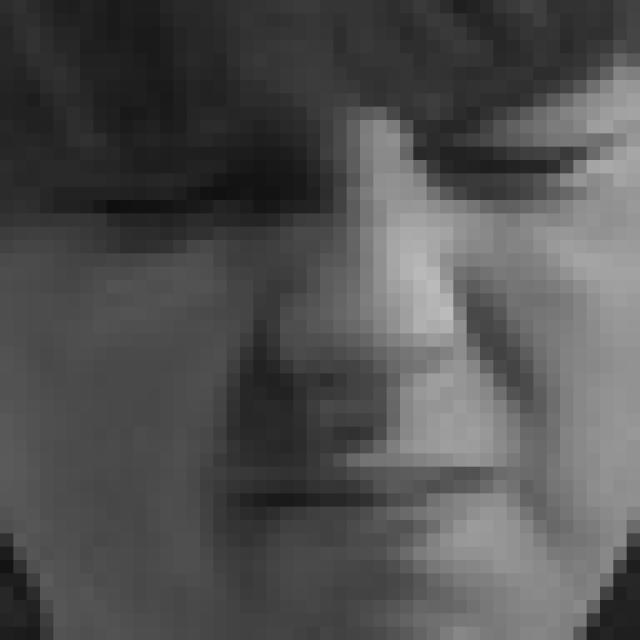disgust: (61, 64, 638, 601)
